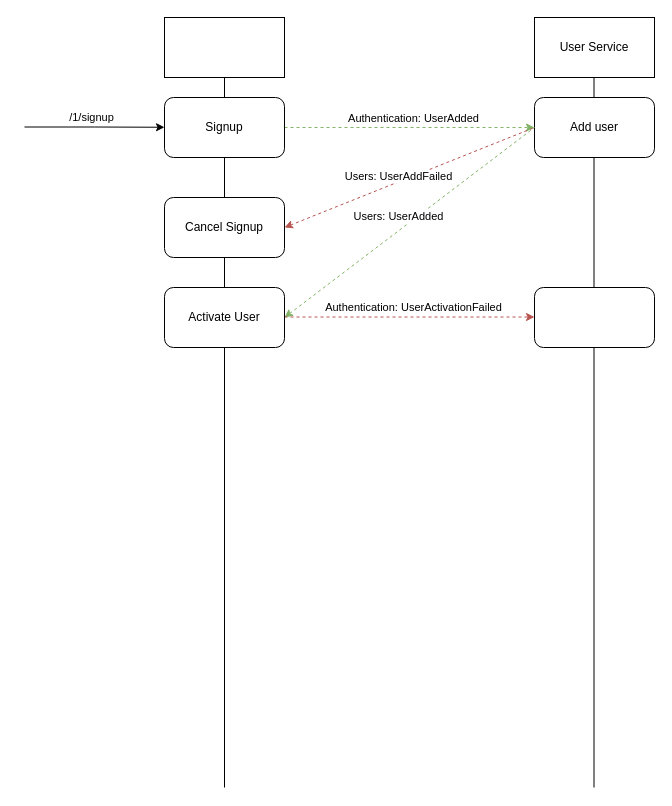
The diagram is 672 pixels wide and 806 high, and some of its shapes have lost their labels. Here are the shapes that lost their labels. From the top down, the centre of each, then its label:
the point at 224,47: Authentication Service
the point at 594,317: Remove user
